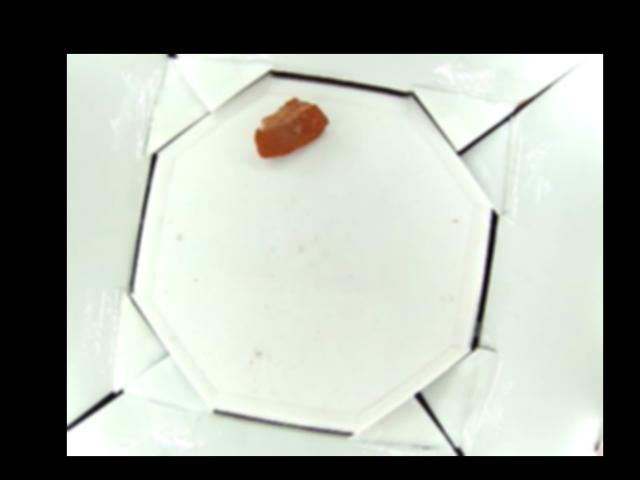Brisk: (254, 94, 324, 157)
